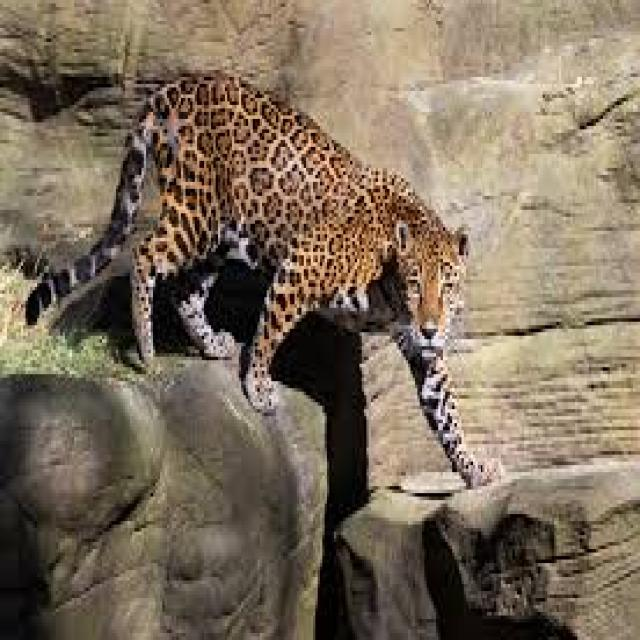Jaguar: (19, 56, 512, 518)
